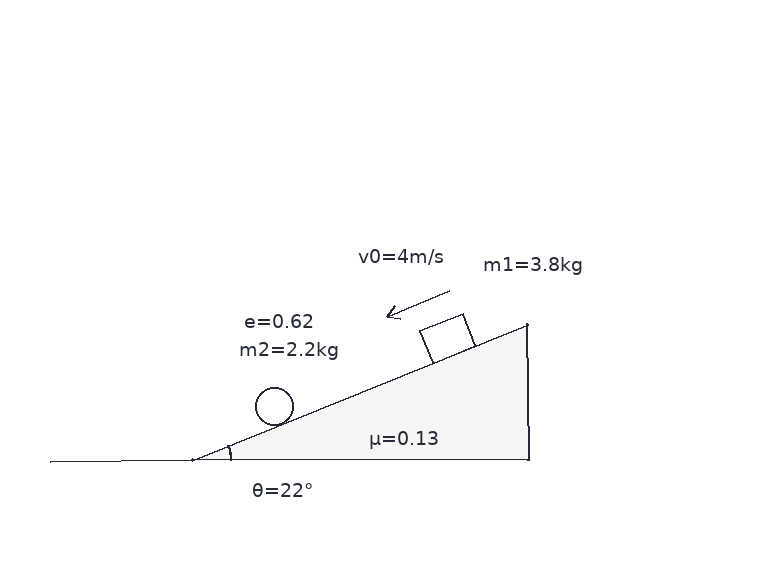ball: (253, 385, 295, 427)
block: (417, 312, 477, 365)
ramp: (189, 322, 530, 462)
